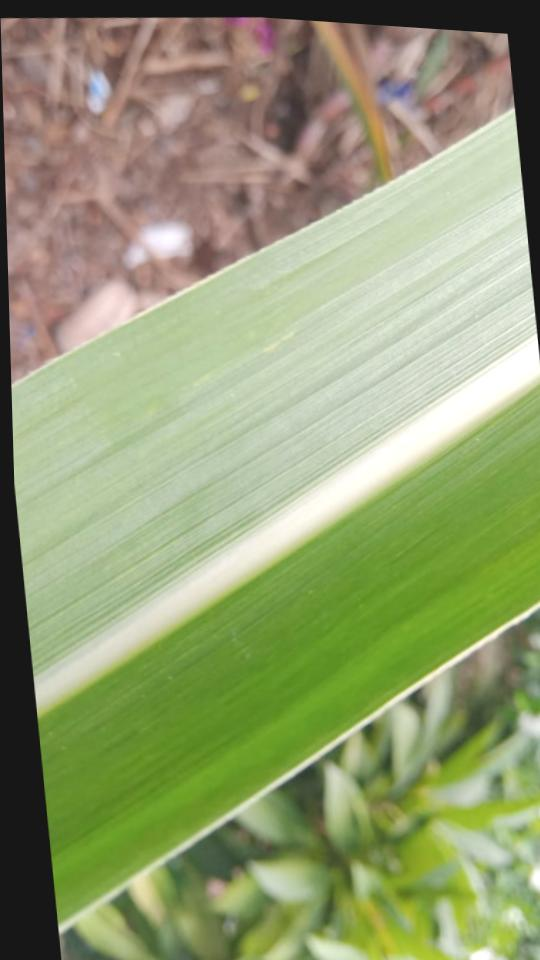Healthy: (11, 105, 540, 927)
